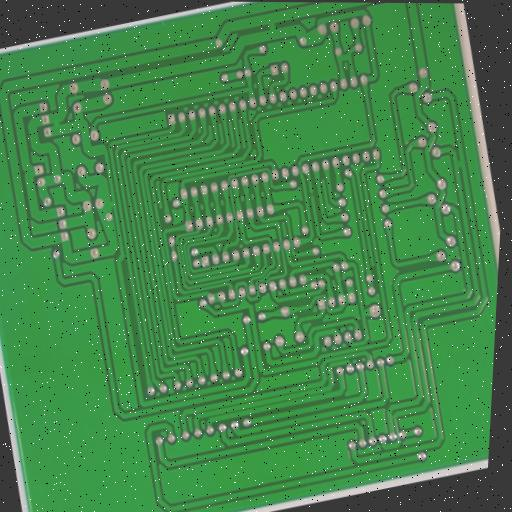short_circuit: (263, 17, 281, 37), (336, 48, 354, 67), (451, 156, 468, 172), (48, 115, 63, 132), (105, 197, 118, 210)
